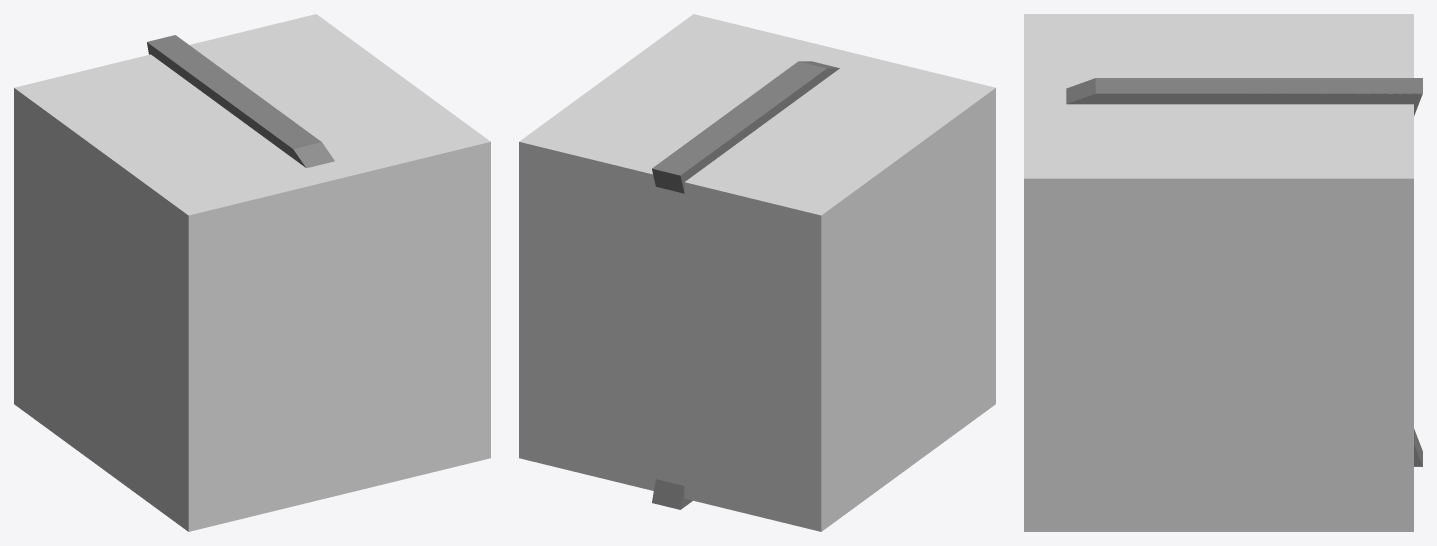
The model's file is fuel_tank.glb.
The picture shows the model from 3 angles, left to right: view 1: azimuth 30°, elevation 25°; view 2: azimuth 150°, elevation 25°; view 3: azimuth 270°, elevation 25°; orthographic projection. The views are drawn at different scales.
Visible parts, largest first — view 1: col_main, Main; view 2: col_main, Main; view 3: col_main, Main.
Part boxes in pixels (x1,y1,x2,y2): col_main: [14, 14, 490, 531]; Main: [147, 35, 334, 168]; col_main: [519, 14, 995, 531]; Main: [652, 61, 839, 509]; col_main: [1024, 14, 1413, 531]; Main: [1066, 78, 1422, 466].
Size of the model in its own units: 2 by 2.11 by 2.05.
Materials: 1 (1 with a texture image).
